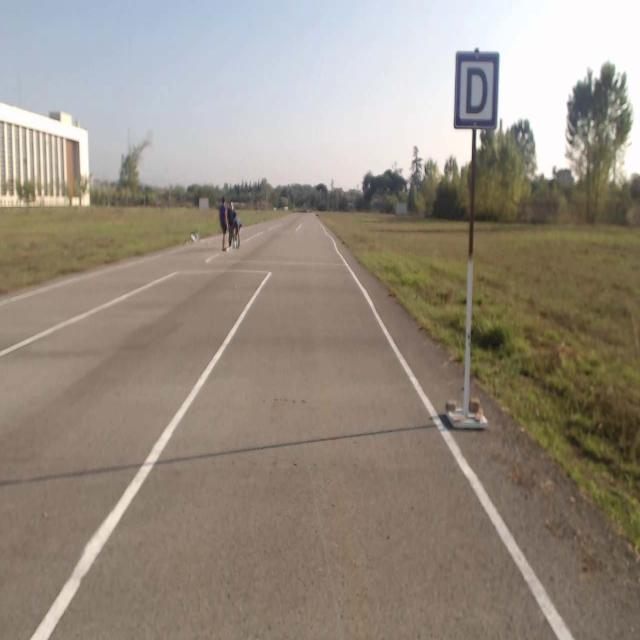durak: (456, 51, 498, 129)
